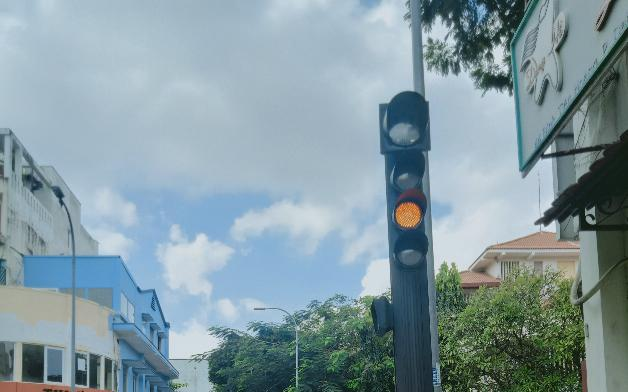yellow_light: (387, 148, 429, 272)
